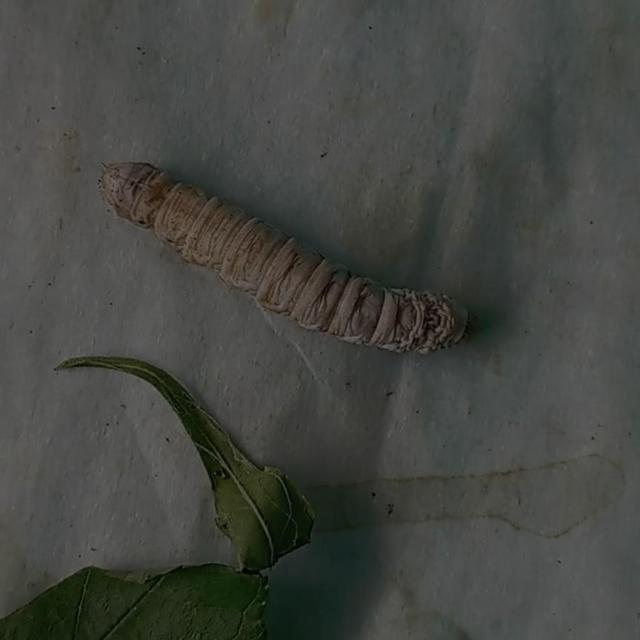Grasserie: (90, 147, 488, 358)
